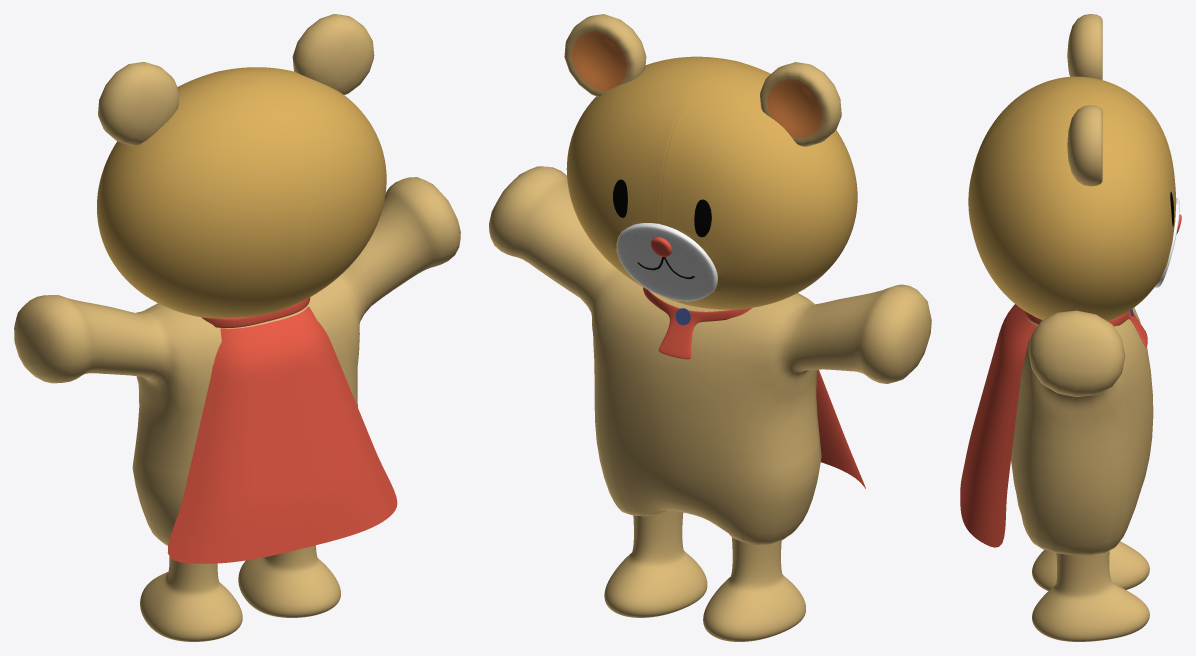
Rendered from sigumann.glb.
The picture shows the model from 3 angles, left to right: view 1: azimuth 30°, elevation 25°; view 2: azimuth 150°, elevation 25°; view 3: azimuth 270°, elevation 25°; orthographic projection. The views are drawn at different scales.
Visible parts, largest first — view 1: 立方体; view 2: 立方体; view 3: 立方体.
Part boxes in pixels (x1=…): 立方体: x1=14, y1=14, x2=460, y2=641; 立方体: x1=489, y1=14, x2=931, y2=641; 立方体: x1=960, y1=14, x2=1181, y2=641.
Bounding box in the file's own units: 8.43 × 10.87 × 4.04.
6 materials, 2 textured.
